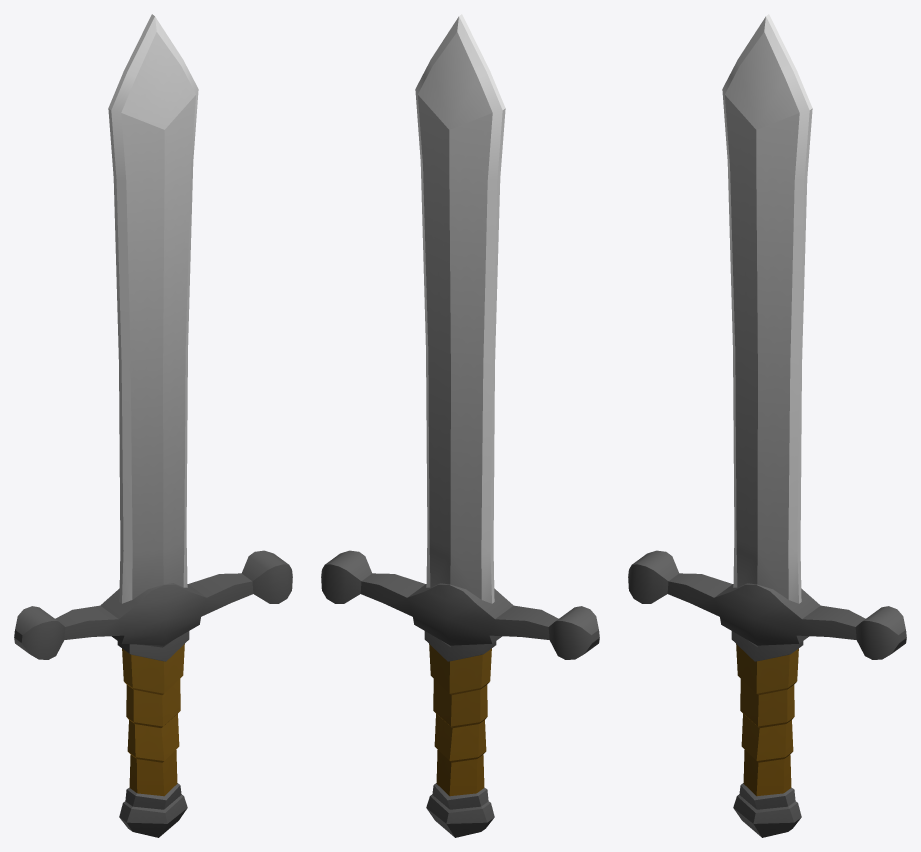
Rendered from sword-by-minipoly-toZKKGhFWc.glb.
The picture shows the model from 3 angles, left to right: view 1: azimuth 30°, elevation 25°; view 2: azimuth 150°, elevation 25°; view 3: azimuth 330°, elevation 25°; orthographic projection.
Visible parts, largest first — view 1: SwordSilver; view 2: SwordSilver; view 3: SwordSilver.
Part boxes in pixels (<box>): SwordSilver: <box>14,14,292,837</box>; SwordSilver: <box>321,14,599,837</box>; SwordSilver: <box>628,14,906,837</box>.
Bounding box in the file's own units: 0.3155 × 0.9104 × 0.0566.
Materials: 1 (1 with a texture image).
